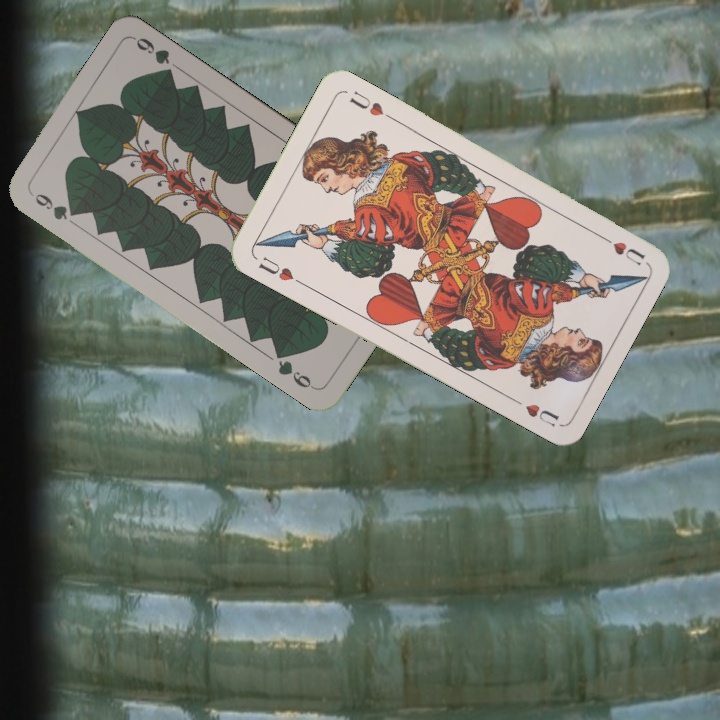G9: (30, 189, 83, 223)
HU: (594, 230, 648, 268), (254, 252, 306, 288)
